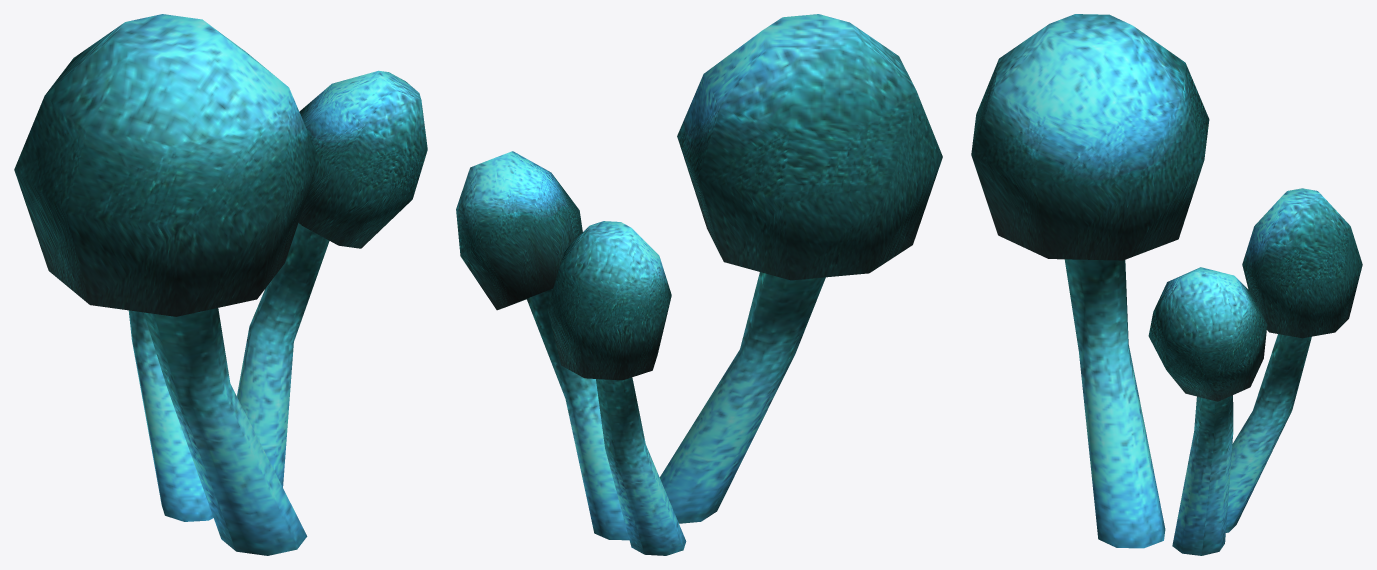
The model's file is mushroom 7.fbx.
3 renders of one model, left to right at view 1: azimuth 30°, elevation 25°; view 2: azimuth 150°, elevation 25°; view 3: azimuth 270°, elevation 25°, orthographic. The views are drawn at different scales.
Visible parts, largest first — view 1: mushroom_7; view 2: mushroom_7; view 3: mushroom_7.
Part boxes in pixels (x1=…): mushroom_7: x1=14, y1=14, x2=427, y2=555; mushroom_7: x1=456, y1=14, x2=942, y2=555; mushroom_7: x1=971, y1=14, x2=1362, y2=555.
Bounding box in the file's own units: 0.3609 × 0.4224 × 0.3309.
